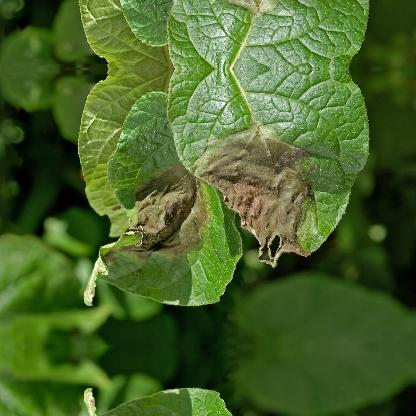Late-Blight: (46, 67, 376, 310), (159, 68, 369, 262), (67, 119, 235, 312), (46, 0, 375, 68), (159, 0, 369, 67)
